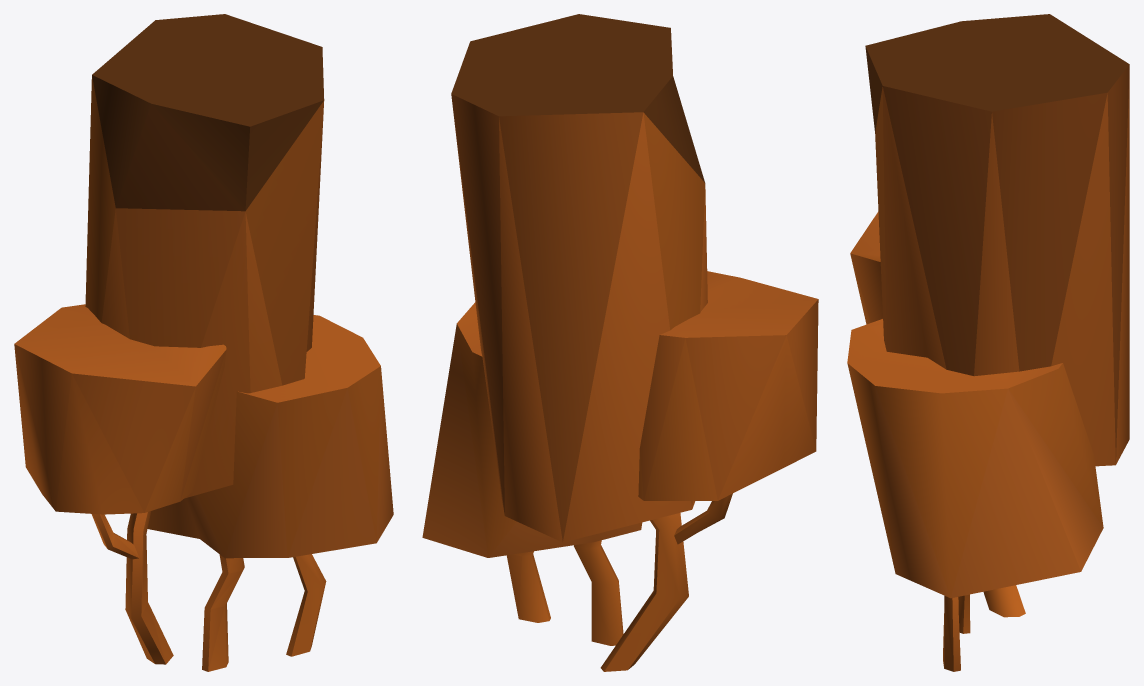
Rendered from angular_bush__autumn.glb.
3 renders of one model, left to right at view 1: azimuth 30°, elevation 25°; view 2: azimuth 150°, elevation 25°; view 3: azimuth 270°, elevation 25°, orthographic.
Size of the model in its own units: 0.7862 by 1.2 by 0.5343.
